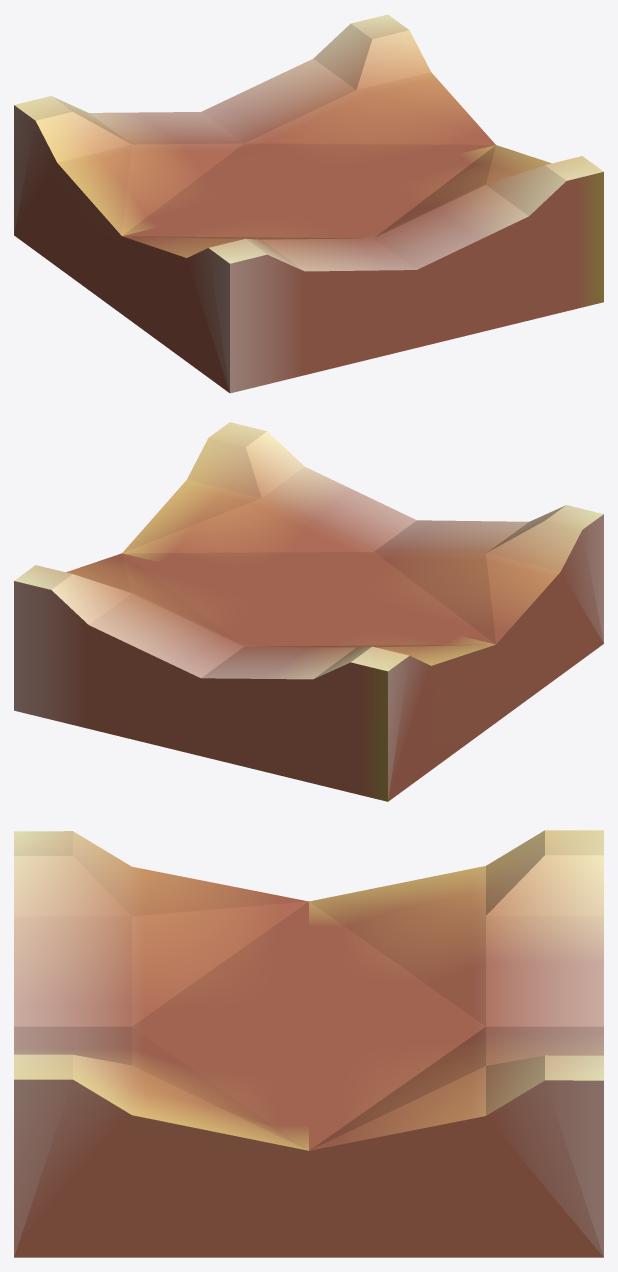
File: River.Cross.Desert.glb
The picture shows the model from 3 angles, top to bottom: view 1: azimuth 30°, elevation 25°; view 2: azimuth 150°, elevation 25°; view 3: azimuth 270°, elevation 25°; orthographic projection. The views are drawn at different scales.
Parts seen in each view (by area): view 1: River.Cross.Desert; view 2: River.Cross.Desert; view 3: River.Cross.Desert.
Boxes of the visible parts, left/top/right/bottom form: River.Cross.Desert: left=14, top=14, right=603, bottom=393; River.Cross.Desert: left=14, top=422, right=603, bottom=801; River.Cross.Desert: left=14, top=830, right=603, bottom=1257.
Bounding box in the file's own units: 3 × 1 × 3.
Materials: 1 (1 with a texture image).
